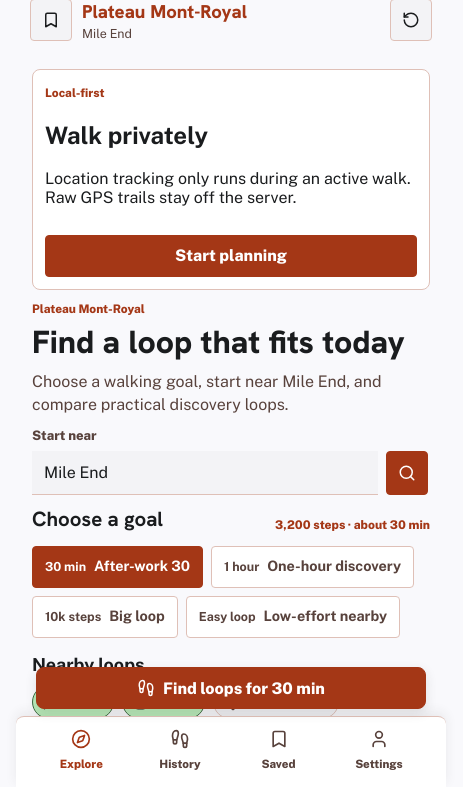
it: App › advances to the next POI after skipping the active discovery
The image size is (463, 787).
Click the button "Find loops for 30 min" at (231, 688), box [36,667,426,709]
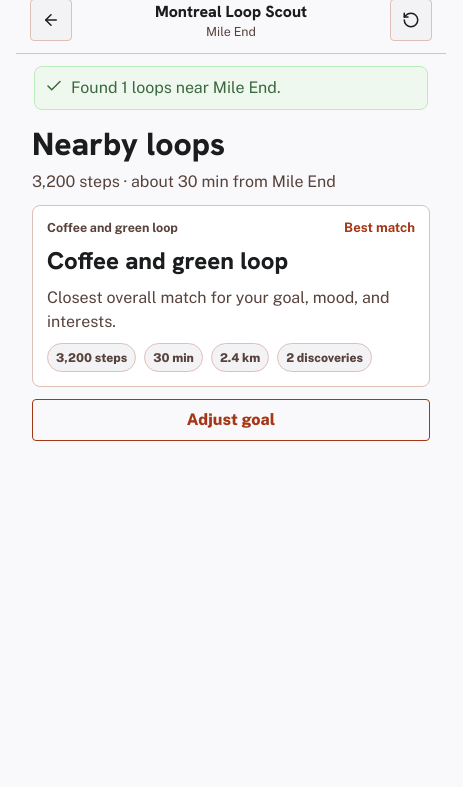
Click the button "Coffee and green loop" at (231, 296), box [32,205,430,387]
(page scrolled)
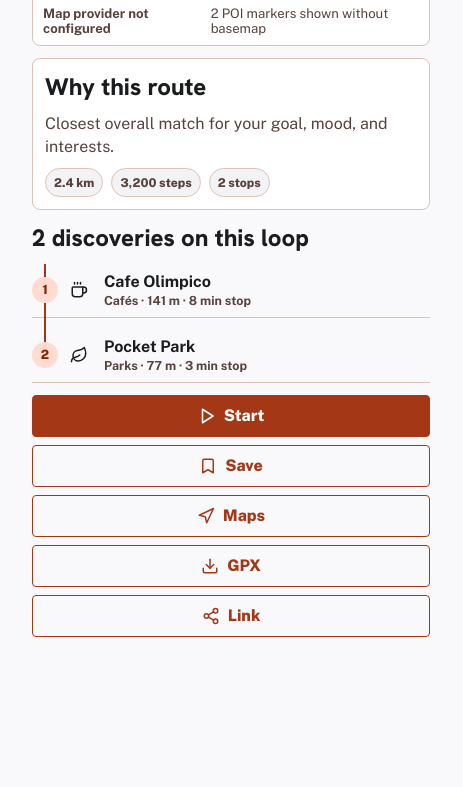
Click the button "Start" at (231, 416), box [32,395,430,437]
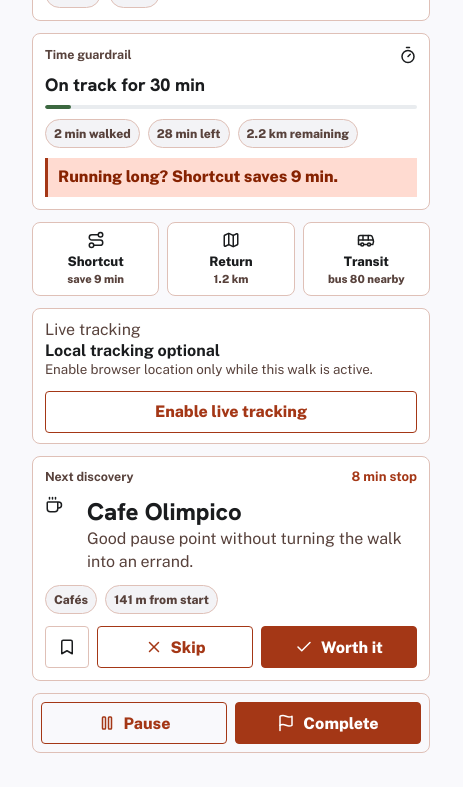
Click the button "Skip" at (175, 647), box [97,626,253,668]
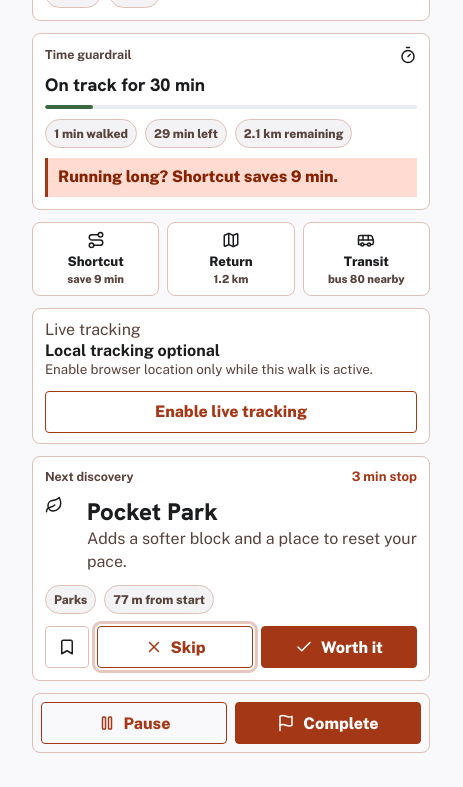
Check: the heading "Pocket Park" is shown, box [87,496,218,527]
